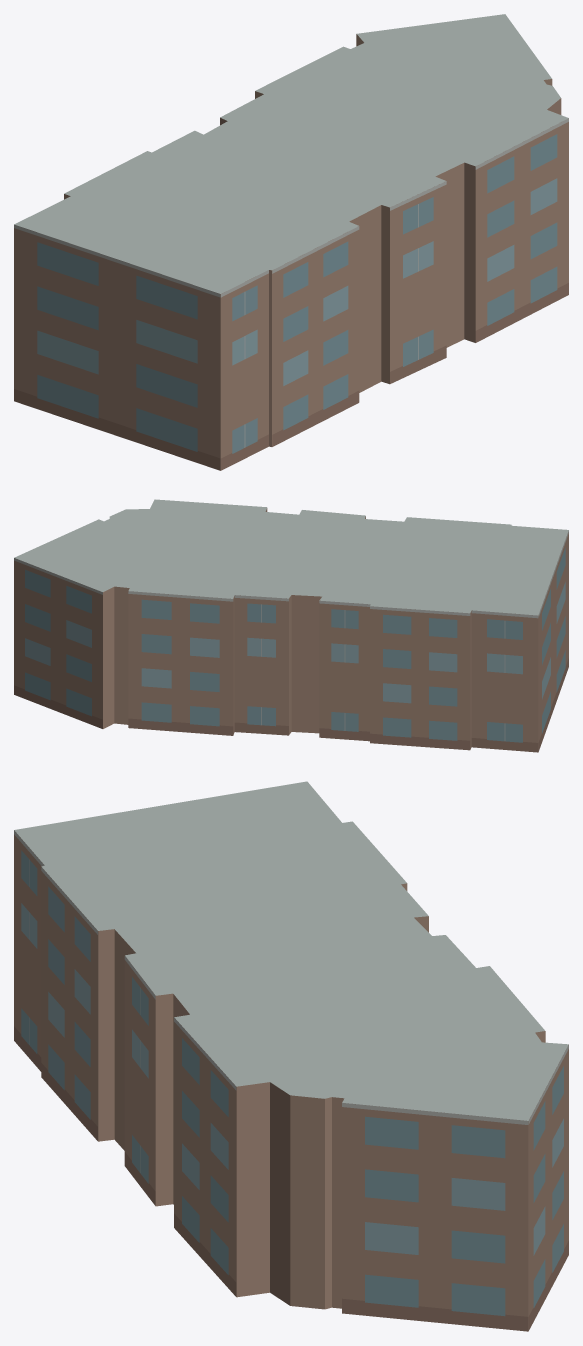
The model's file is survey-upis-32950860.glb.
3 views of the same model, one above another, from view 1: azimuth 30°, elevation 25°; view 2: azimuth 150°, elevation 25°; view 3: azimuth 270°, elevation 25° (orthographic). The views are drawn at different scales.
Parts seen in each view (by area): view 1: survey-upis-32950860.tmp; view 2: survey-upis-32950860.tmp; view 3: survey-upis-32950860.tmp.
Part boxes in pixels (left/top/right/bottom): survey-upis-32950860.tmp: left=14, top=14, right=568, bottom=470; survey-upis-32950860.tmp: left=14, top=499, right=568, bottom=752; survey-upis-32950860.tmp: left=14, top=781, right=568, bottom=1331.
Size of the model in its own units: 42.19 by 12.2 by 29.13.
